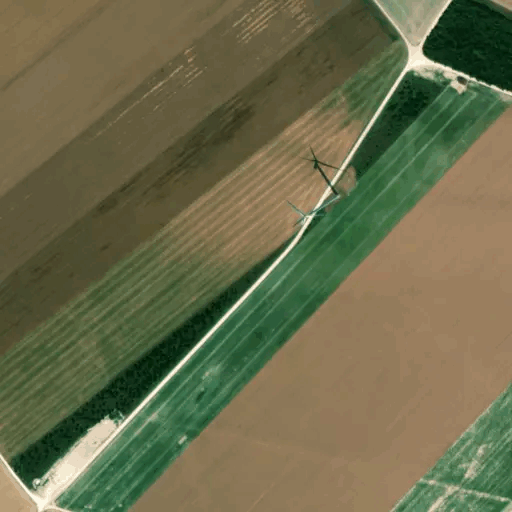wt: (283, 145, 349, 236)
